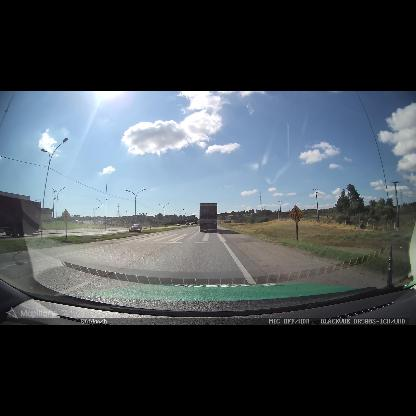A-32b: (288, 205, 305, 224), (61, 208, 71, 225)
